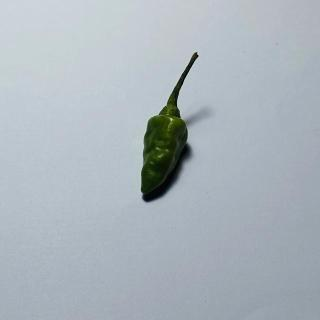Cabai Hijau: (136, 50, 207, 201)
